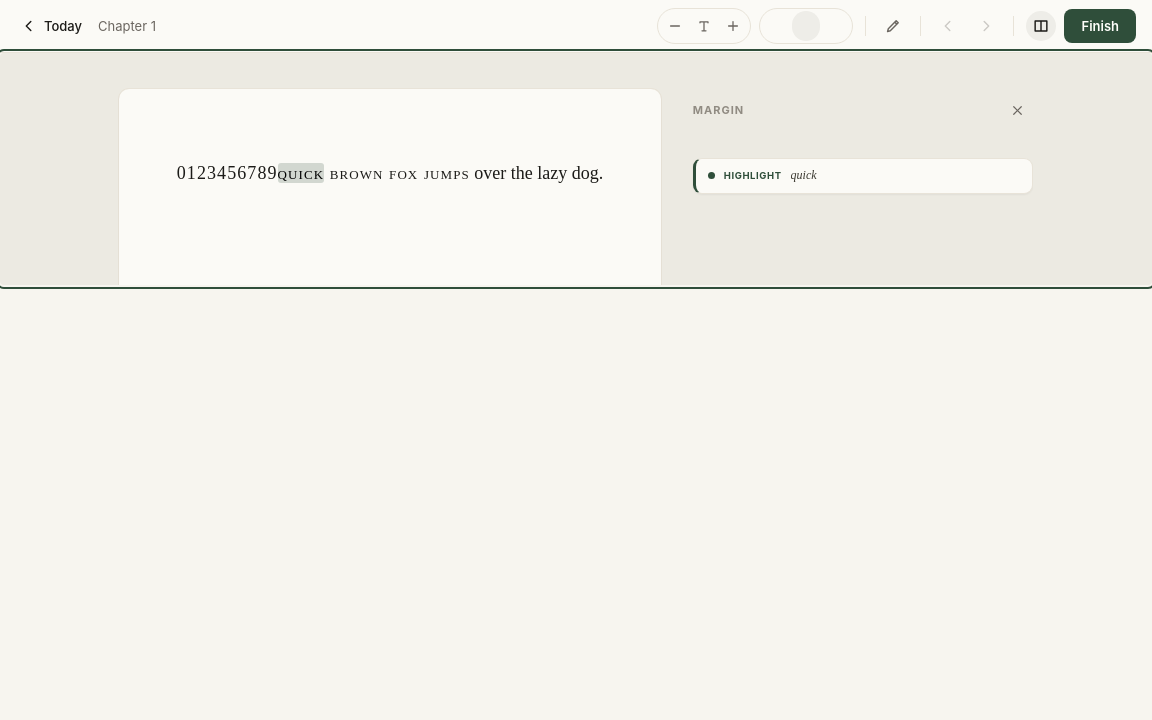
Scenario: TextReader margin note delete — Undo (FT-32) › a FAILED stage keeps the card, reports the failure, and never deletes
Expected: the element with class "tl-hl" is shown, [278,163,324,183]
Click the button with class "tl-kmark" at coordinates (753, 175), box [693,158,1033,194]
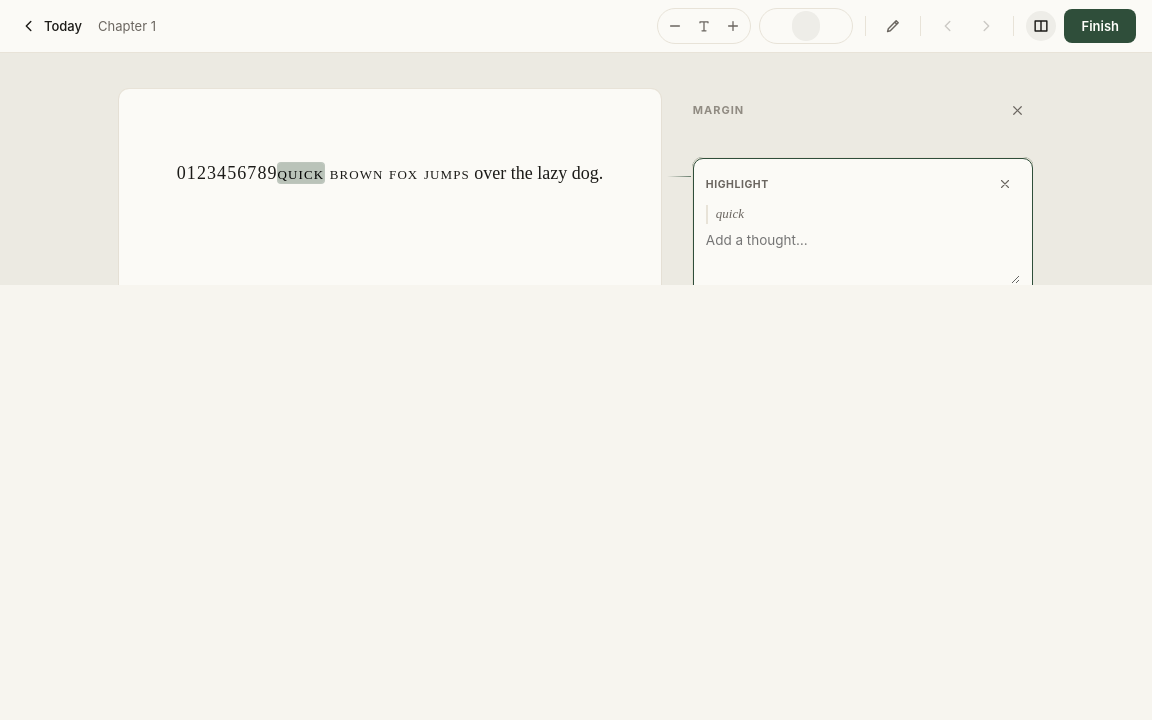
Click the button named "Delete note" at coordinates (1005, 184), box [990,169,1020,199]
Wait 7000 ms
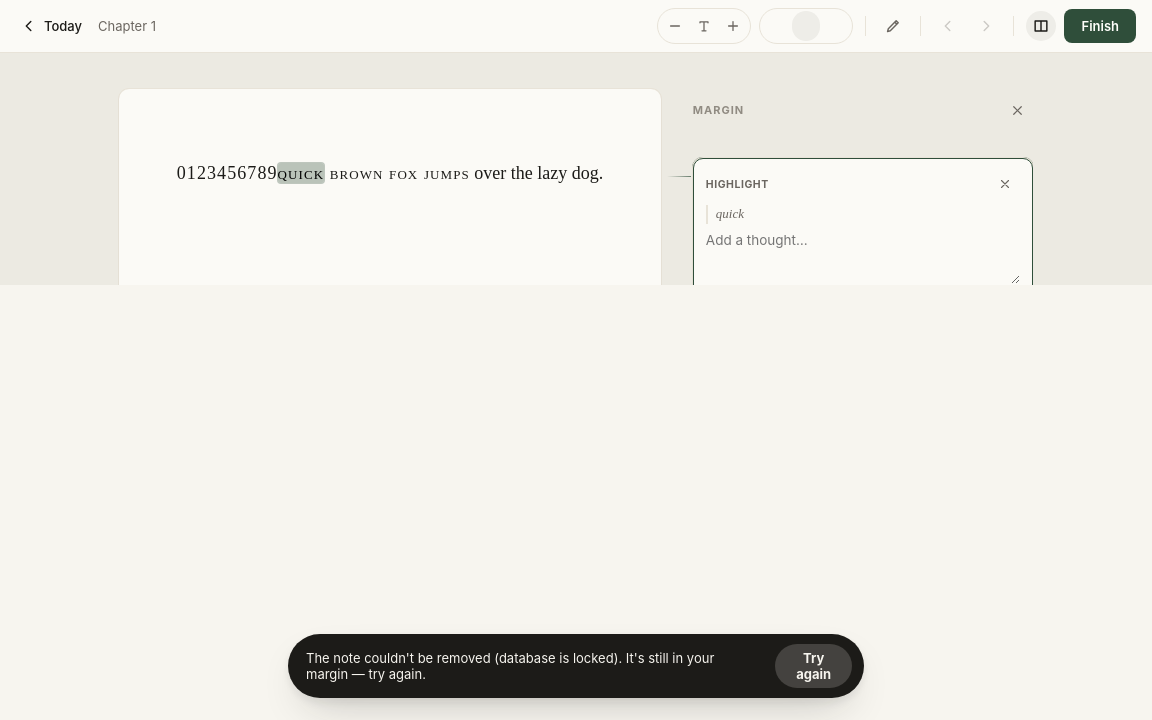
Expected: the element with class "tl-hl" is shown, [278,163,324,183]
Expected: the message shows "couldn't be removed", [306,650,714,682]
